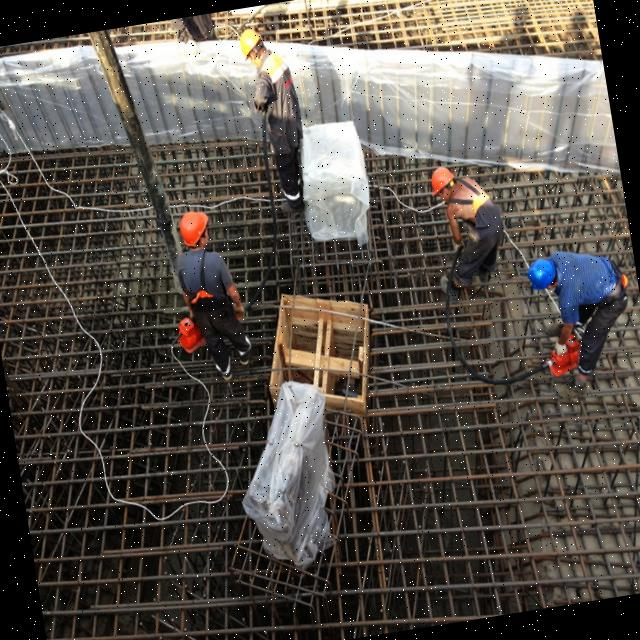Helmet: (176, 209, 214, 254), (526, 255, 561, 296), (426, 165, 460, 199), (239, 25, 269, 63)
Jacket: (254, 53, 303, 148)
NoJacket: (553, 249, 616, 310), (176, 247, 228, 318), (450, 181, 496, 234)
